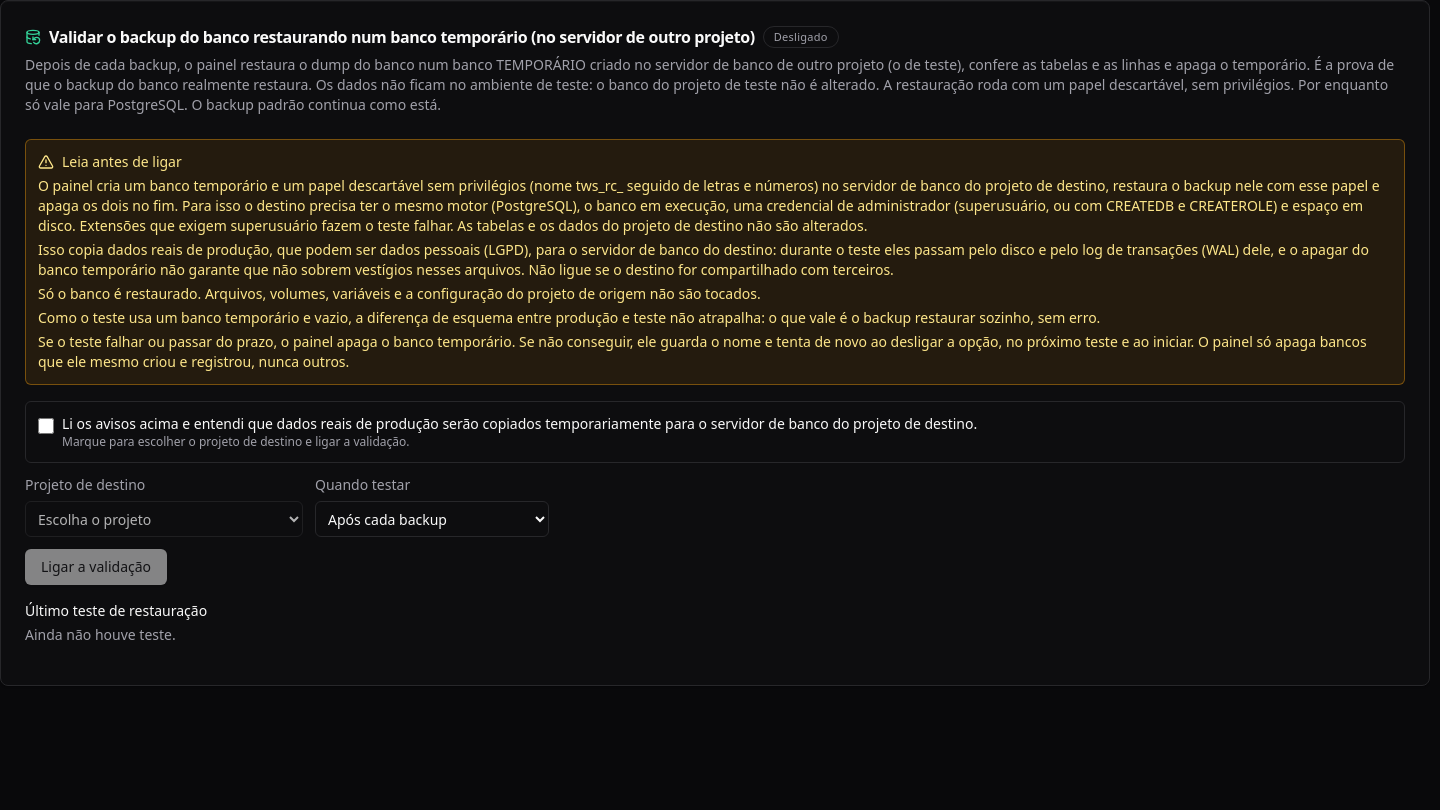
Test: desligado (o padrão) › Ligar só habilita depois de escolher o destino e digitar o nome dele (maiúsculas tanto faz)
Expected: the button "Ligar a validação" is disabled, [25,549,167,585]
Expected: the field labelled "Digite" is not shown
Click the checkbox labelled "Li os avisos acima" at (46, 426), box [38,418,54,434]
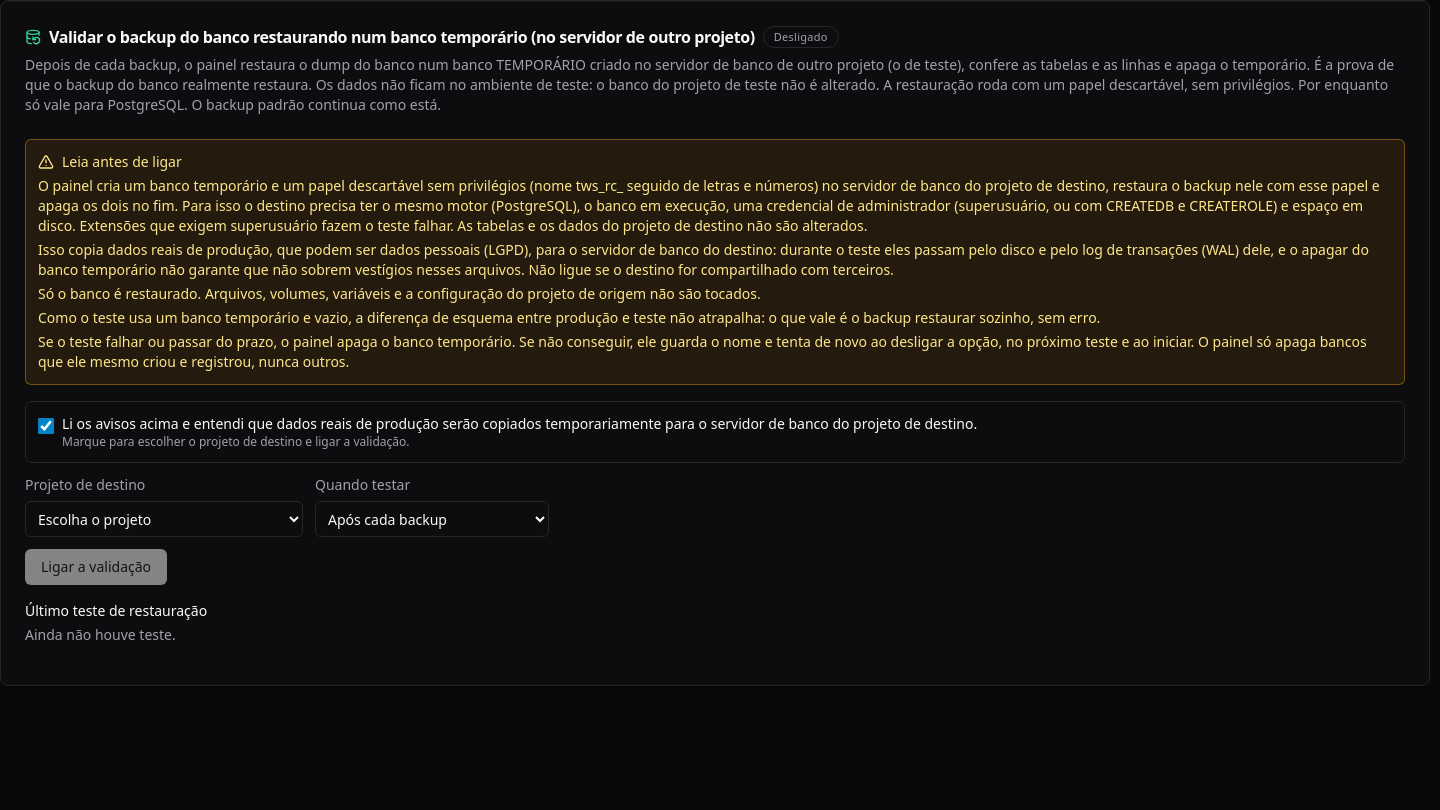
Select "Fazenda Sandbox (PostgreSQL)" in the dropdown labelled "Projeto de destino" at (164, 519), box [25,501,303,537]
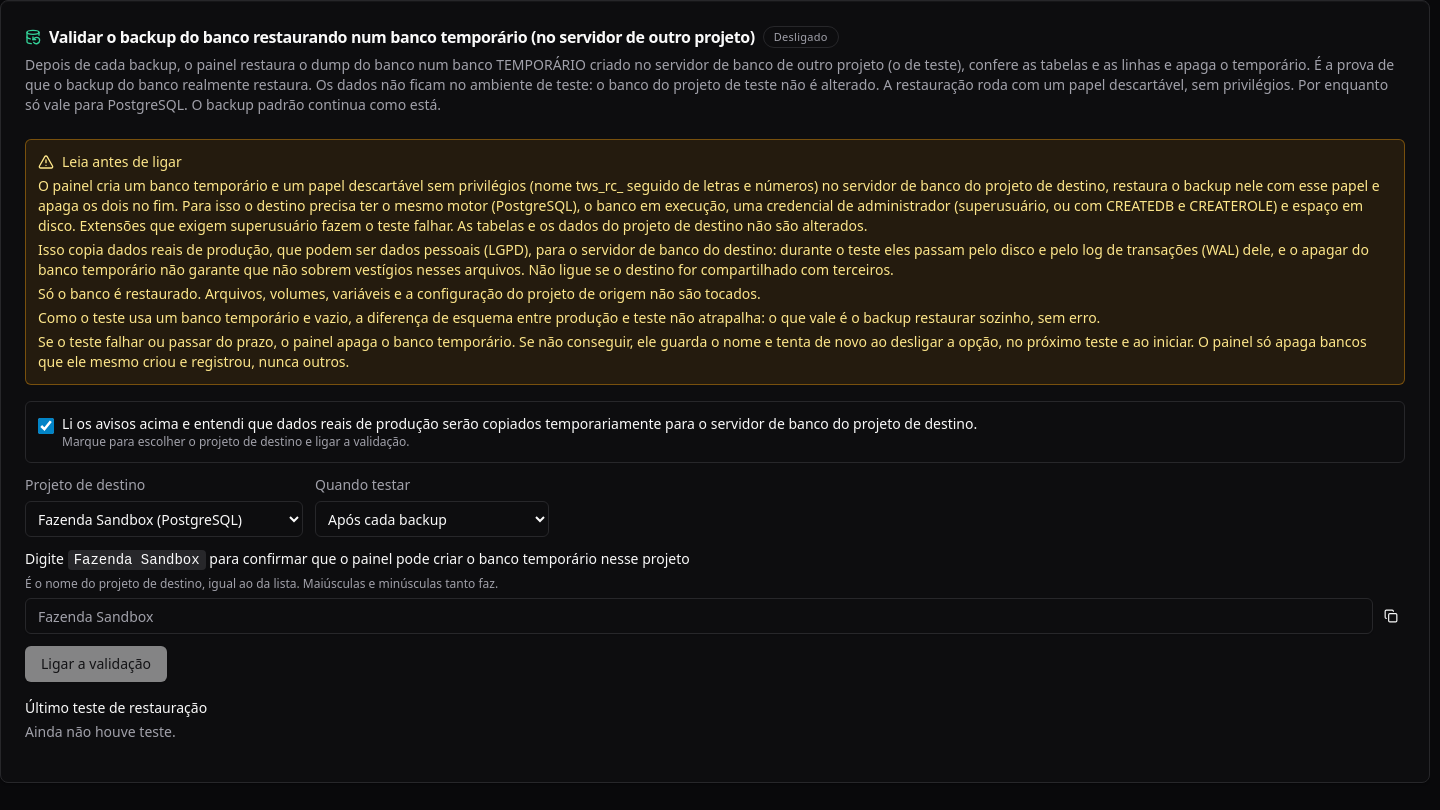
Expected: the button "Ligar a validação" is disabled, [25,646,167,682]
Type "Fazenda" into the field with placeholder "Fazenda Sandbox" at (699, 616), box [25,598,1373,634]
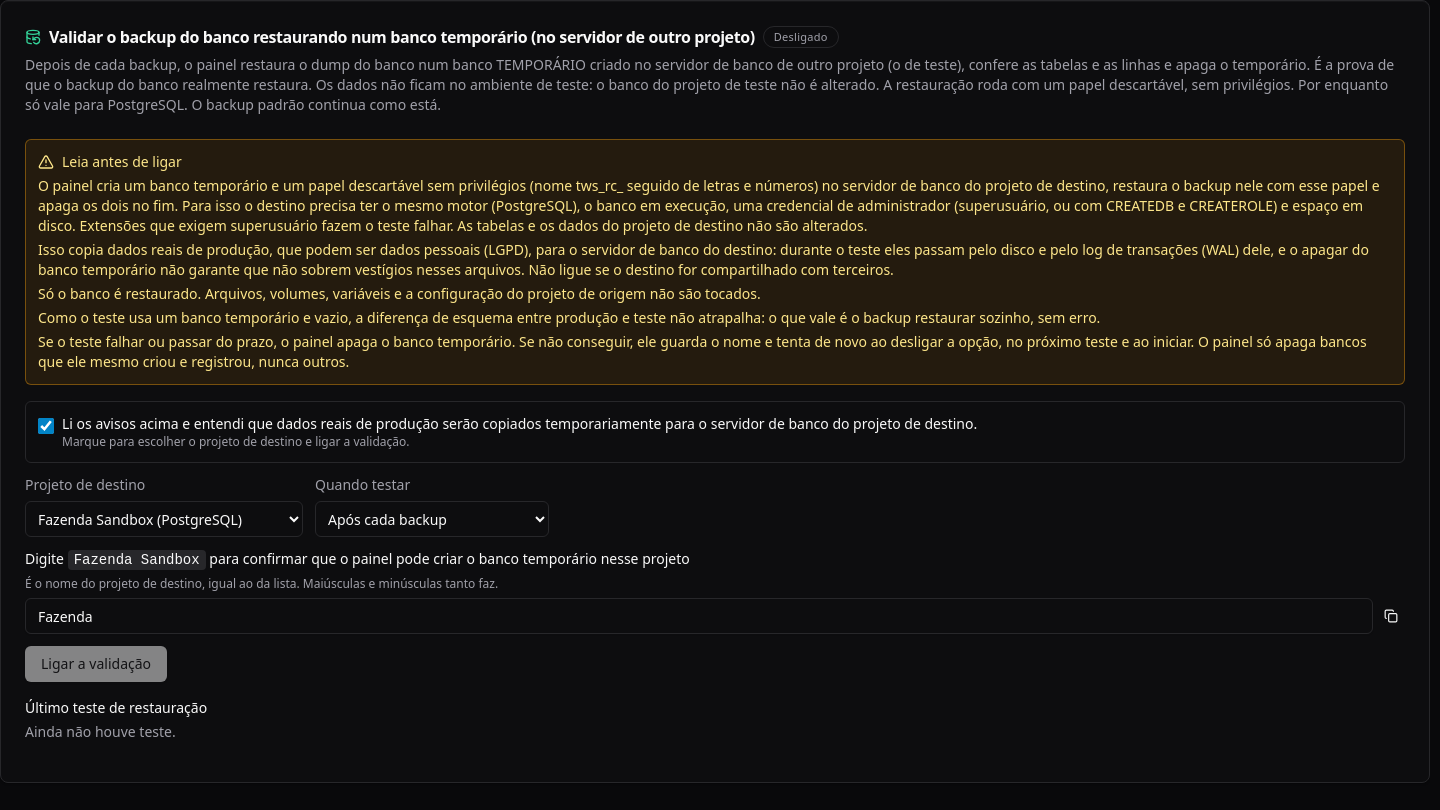
Expected: the button "Ligar a validação" is disabled, [25,646,167,682]
Replace the text in the field with placeholder "Fazenda Sandbox" with "  fazenda sandbox " at (699, 616), box [25,598,1373,634]
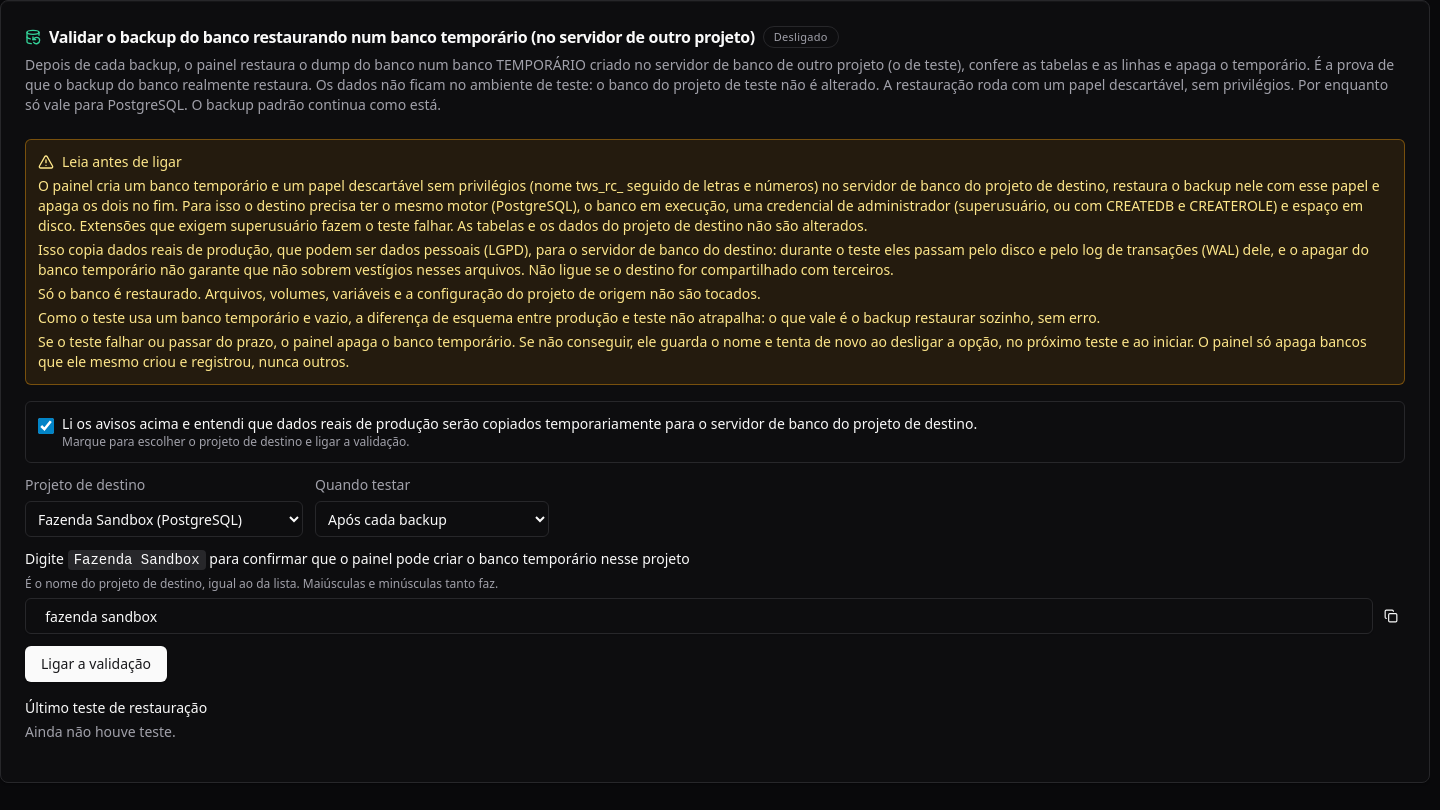
Now the button "Ligar a validação" is enabled, box [25,646,167,682]
Select "No máximo 1 vez por semana" in the dropdown labelled "Quando testar" at (432, 519), box [315,501,549,537]
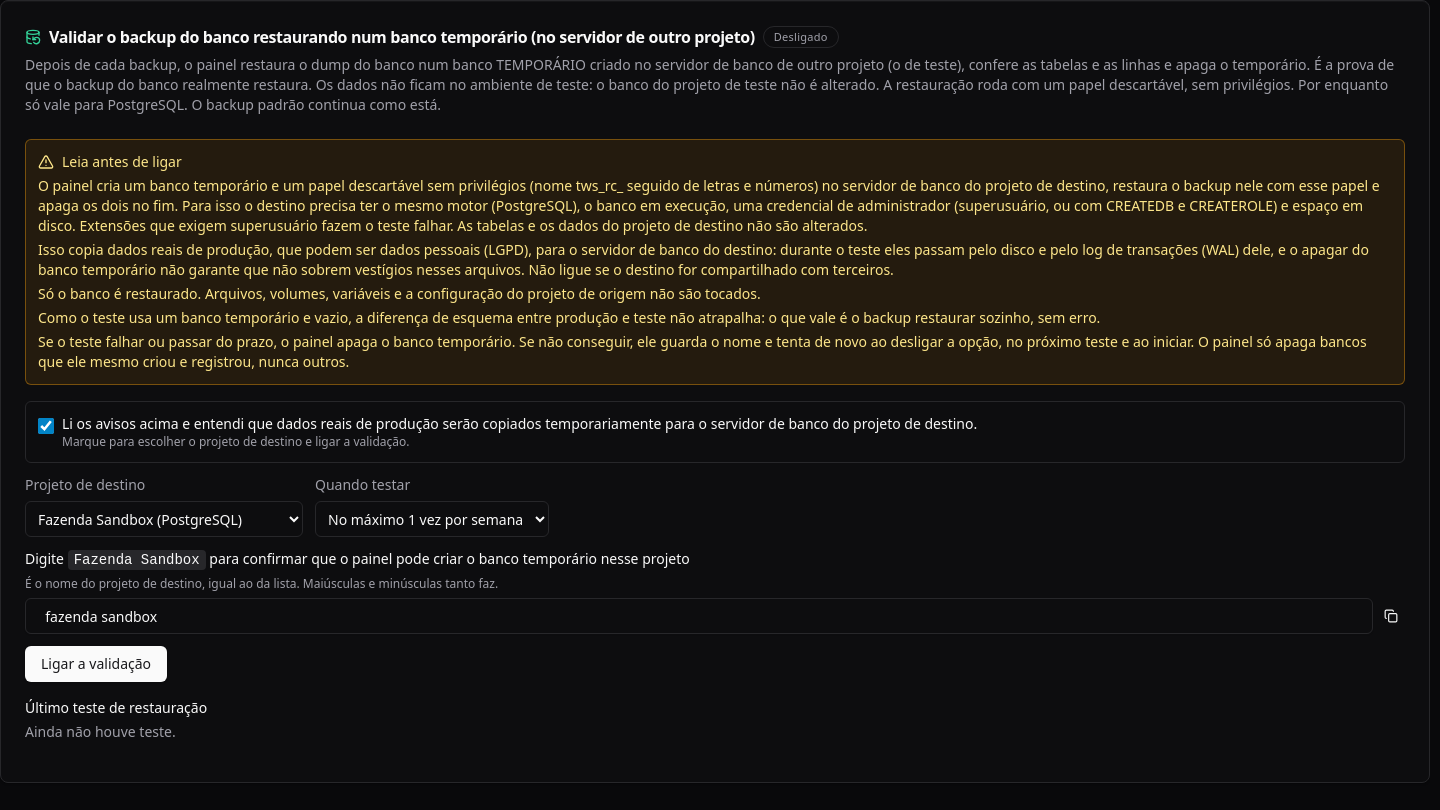
Click the button "Ligar a validação" at (96, 664), box [25,646,167,682]
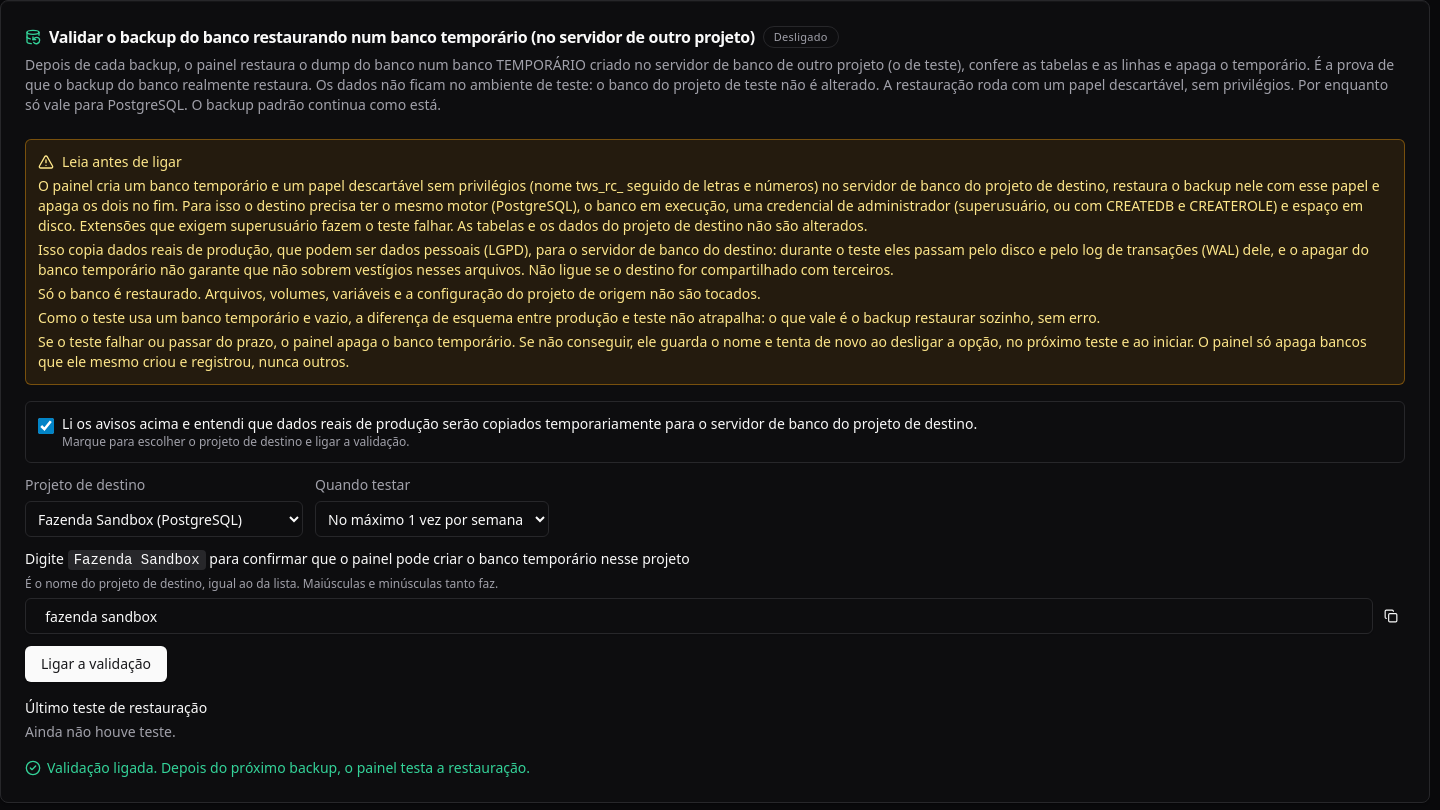
Now the text "Validação ligada" is shown, box [47,758,530,777]
